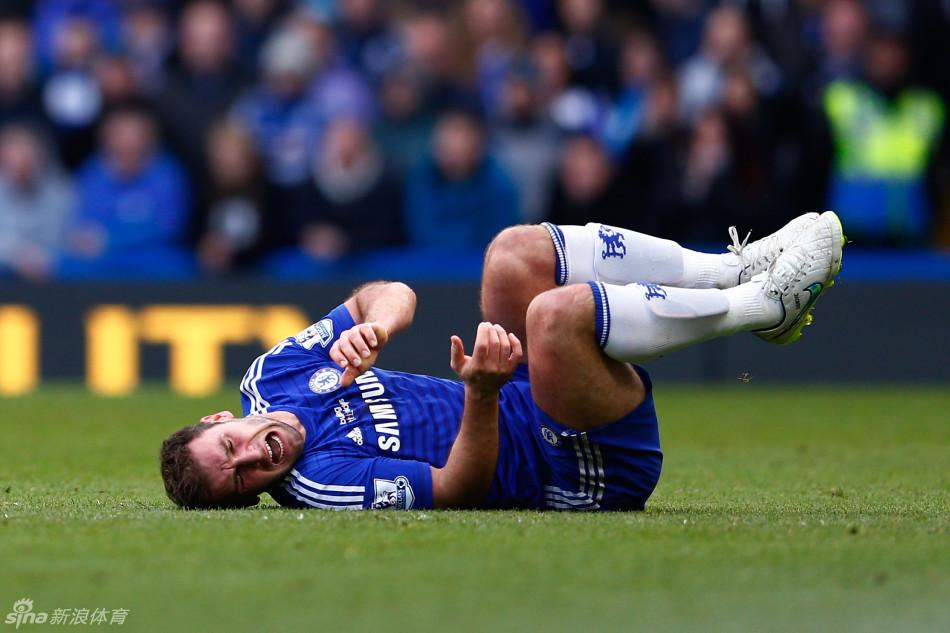down: (148, 182, 849, 518)
